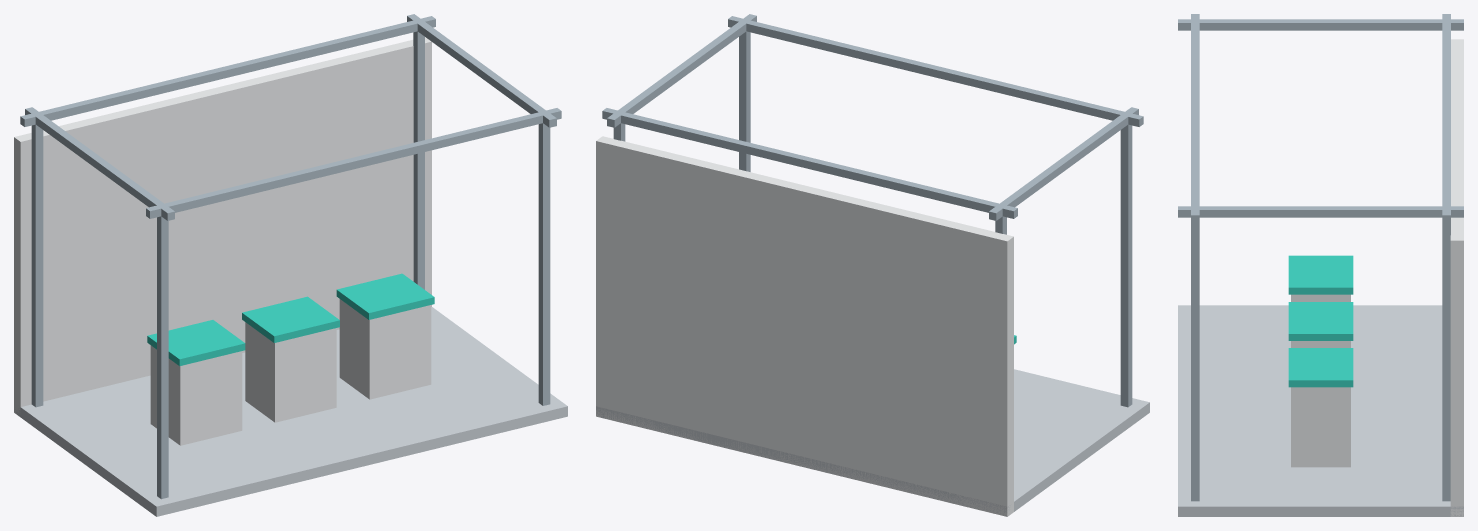
3 views of the same model, side by side, from view 1: azimuth 30°, elevation 25°; view 2: azimuth 150°, elevation 25°; view 3: azimuth 270°, elevation 25° (orthographic).
Parts seen in each view (by area): view 1: Exhibition Booth Concept; view 2: Exhibition Booth Concept; view 3: Exhibition Booth Concept.
Boxes of the visible parts, left/top/right/bottom form: Exhibition Booth Concept: left=14, top=14, right=567, bottom=516; Exhibition Booth Concept: left=596, top=14, right=1149, bottom=516; Exhibition Booth Concept: left=1178, top=14, right=1463, bottom=516.
Size of the model in its own units: 5 by 3.49 by 3.
